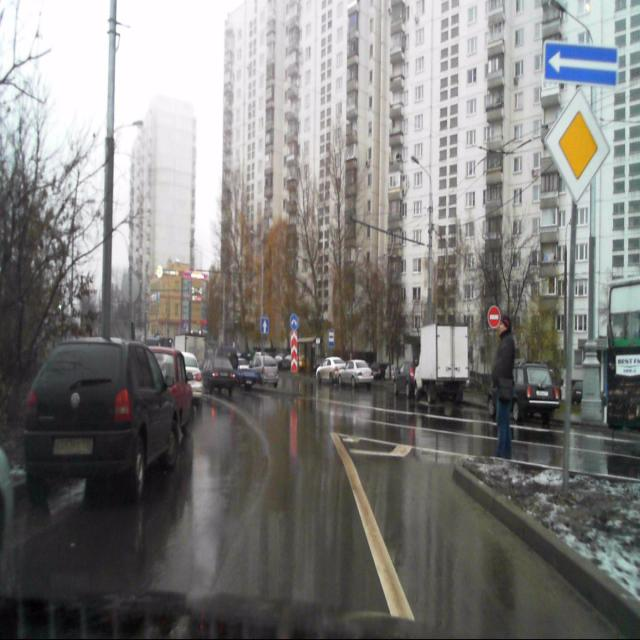road sign: (544, 90, 610, 203), (544, 41, 617, 86), (260, 317, 269, 333)
